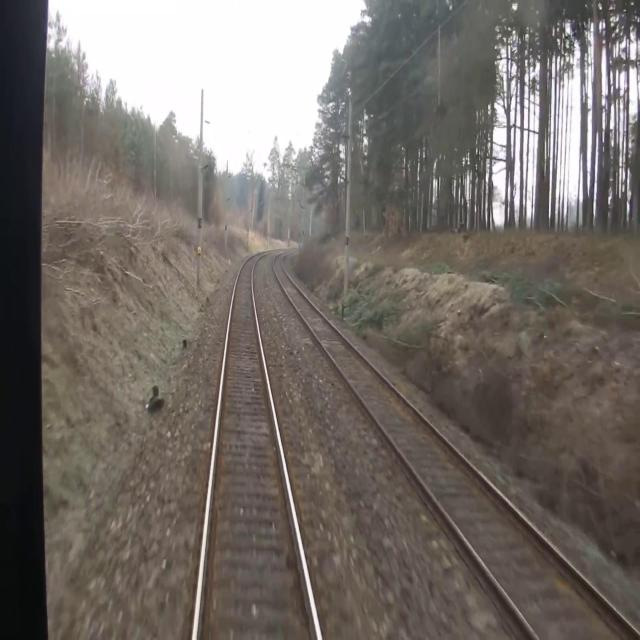rail-track: (274, 252, 639, 639), (196, 253, 317, 639)
